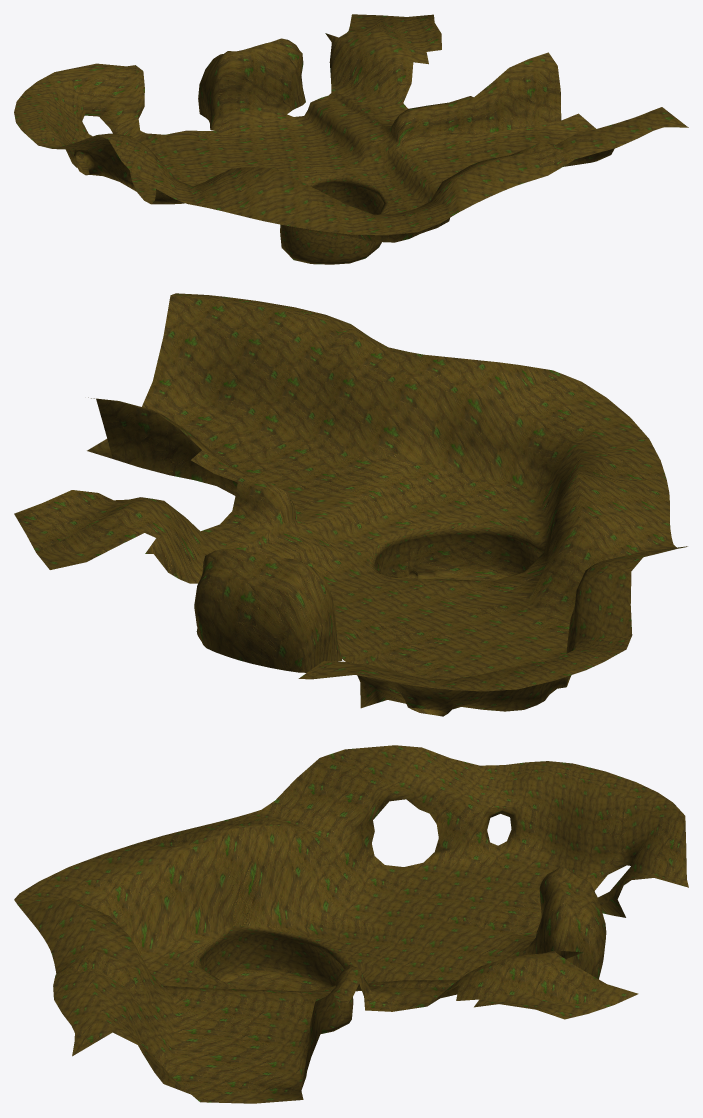
Rendered from MIRKWOOD_AREA2.fbx.
3 views of the same model, one above another, from view 1: azimuth 30°, elevation 25°; view 2: azimuth 150°, elevation 25°; view 3: azimuth 270°, elevation 25° (orthographic). The views are drawn at different scales.
Parts seen in each view (by area): view 1: MIRKWOOD_AREA2; view 2: MIRKWOOD_AREA2; view 3: MIRKWOOD_AREA2.
Part boxes in pixels (bbox=[...]): MIRKWOOD_AREA2: bbox=[14, 14, 688, 264]; MIRKWOOD_AREA2: bbox=[14, 293, 687, 716]; MIRKWOOD_AREA2: bbox=[14, 745, 688, 1103].
Bounding box in the file's own units: 641745 × 144395 × 579605.
1 material, 1 textured.
